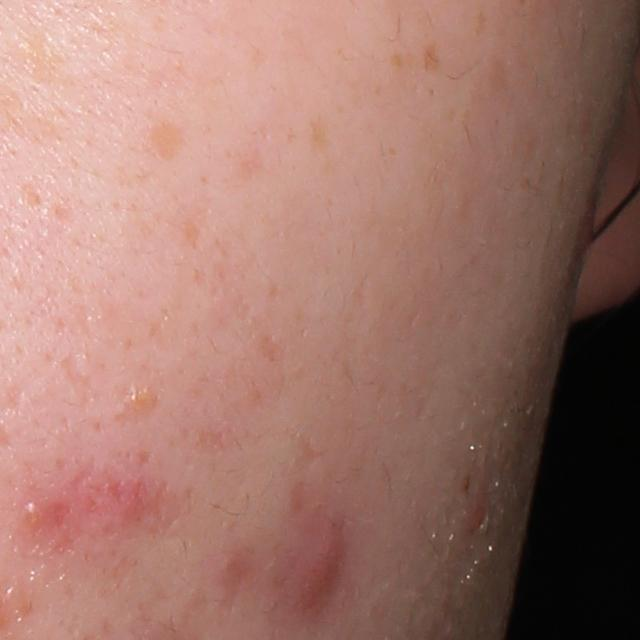atrophic_scar: (49, 349, 101, 404)
comedo: (122, 386, 165, 419)
melasma: (6, 27, 75, 87), (307, 117, 335, 173), (155, 120, 188, 156), (417, 40, 442, 74)
papule: (280, 521, 362, 622), (466, 492, 485, 532)
